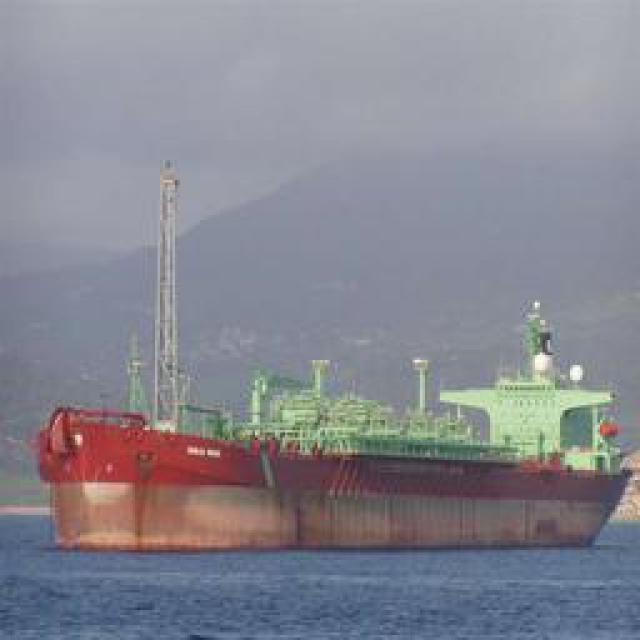Ship: (31, 313, 636, 551)
